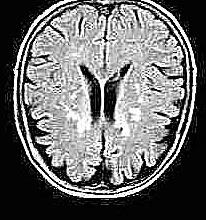Normal_Brain: (1, 1, 206, 220)
